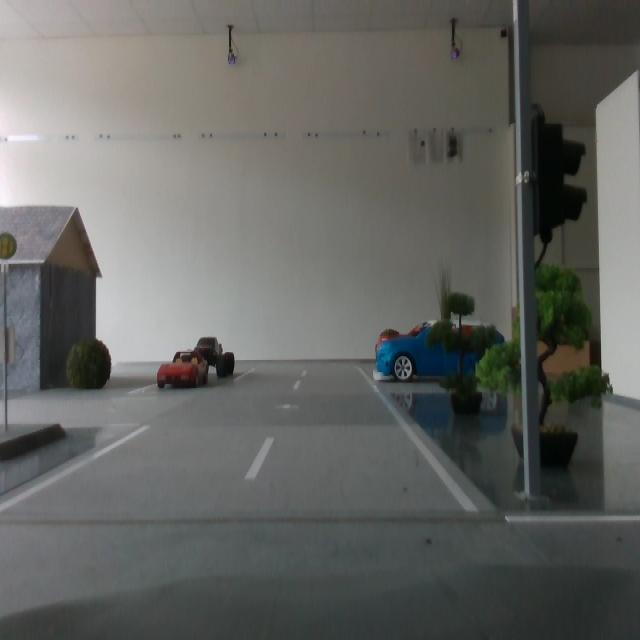car: (375, 320, 506, 382), (376, 321, 506, 382), (156, 349, 213, 393), (185, 337, 237, 380)
potted plant: (475, 261, 617, 475), (427, 291, 493, 420), (66, 338, 113, 392), (437, 262, 456, 349), (378, 328, 404, 363)
traffic light: (531, 102, 588, 244)
